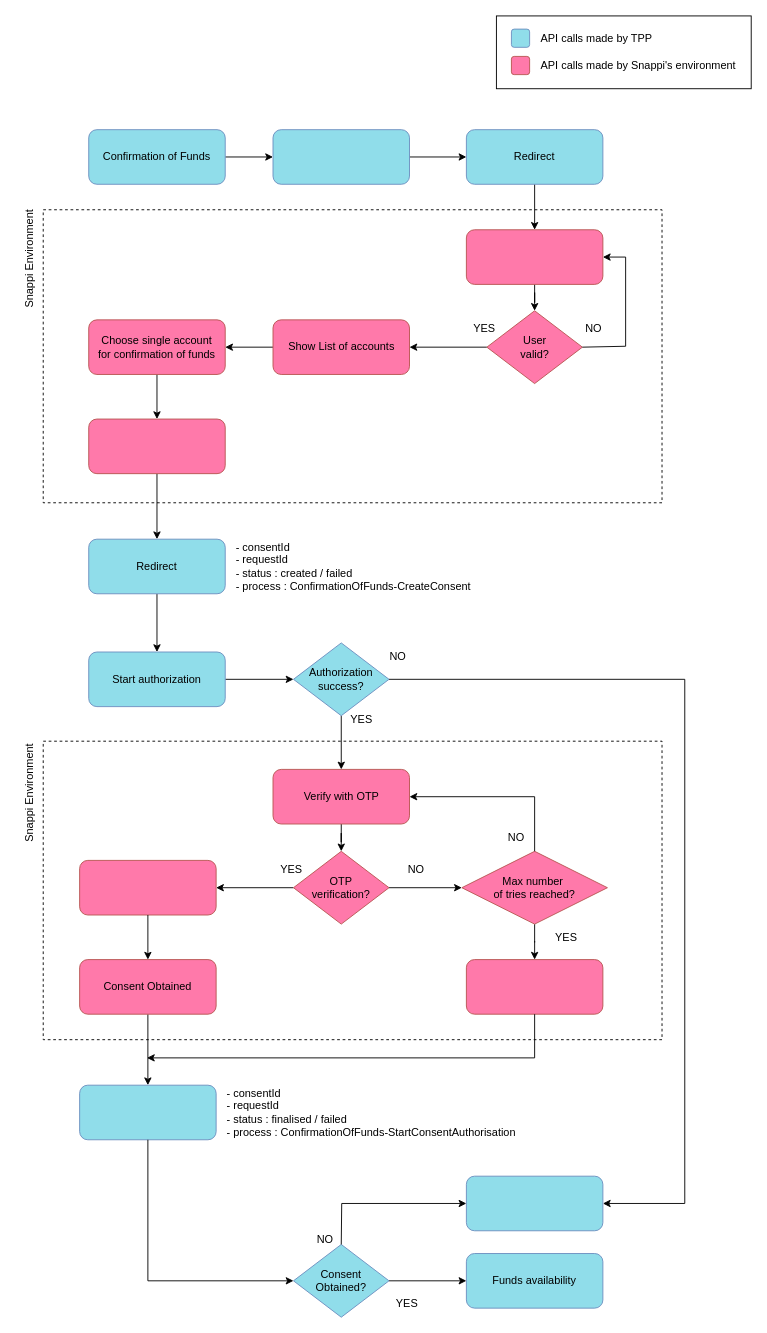
Image size: 767x1333. Some labels were removed from this diagram. Here are the shapes that lost their labels. From the top down, the centre of each, then its label:
At [341,156]: "Create Consent (recurring: false)".
At [534,256]: "Authenticate user".
At [156,446]: "Create Consent (new id, status pending)".
At [147,887]: "Update Consent (status accepted)".
At [534,986]: "Consent Rejected".
At [147,1112]: "Redirect URI".
At [534,1203]: "Exit".
